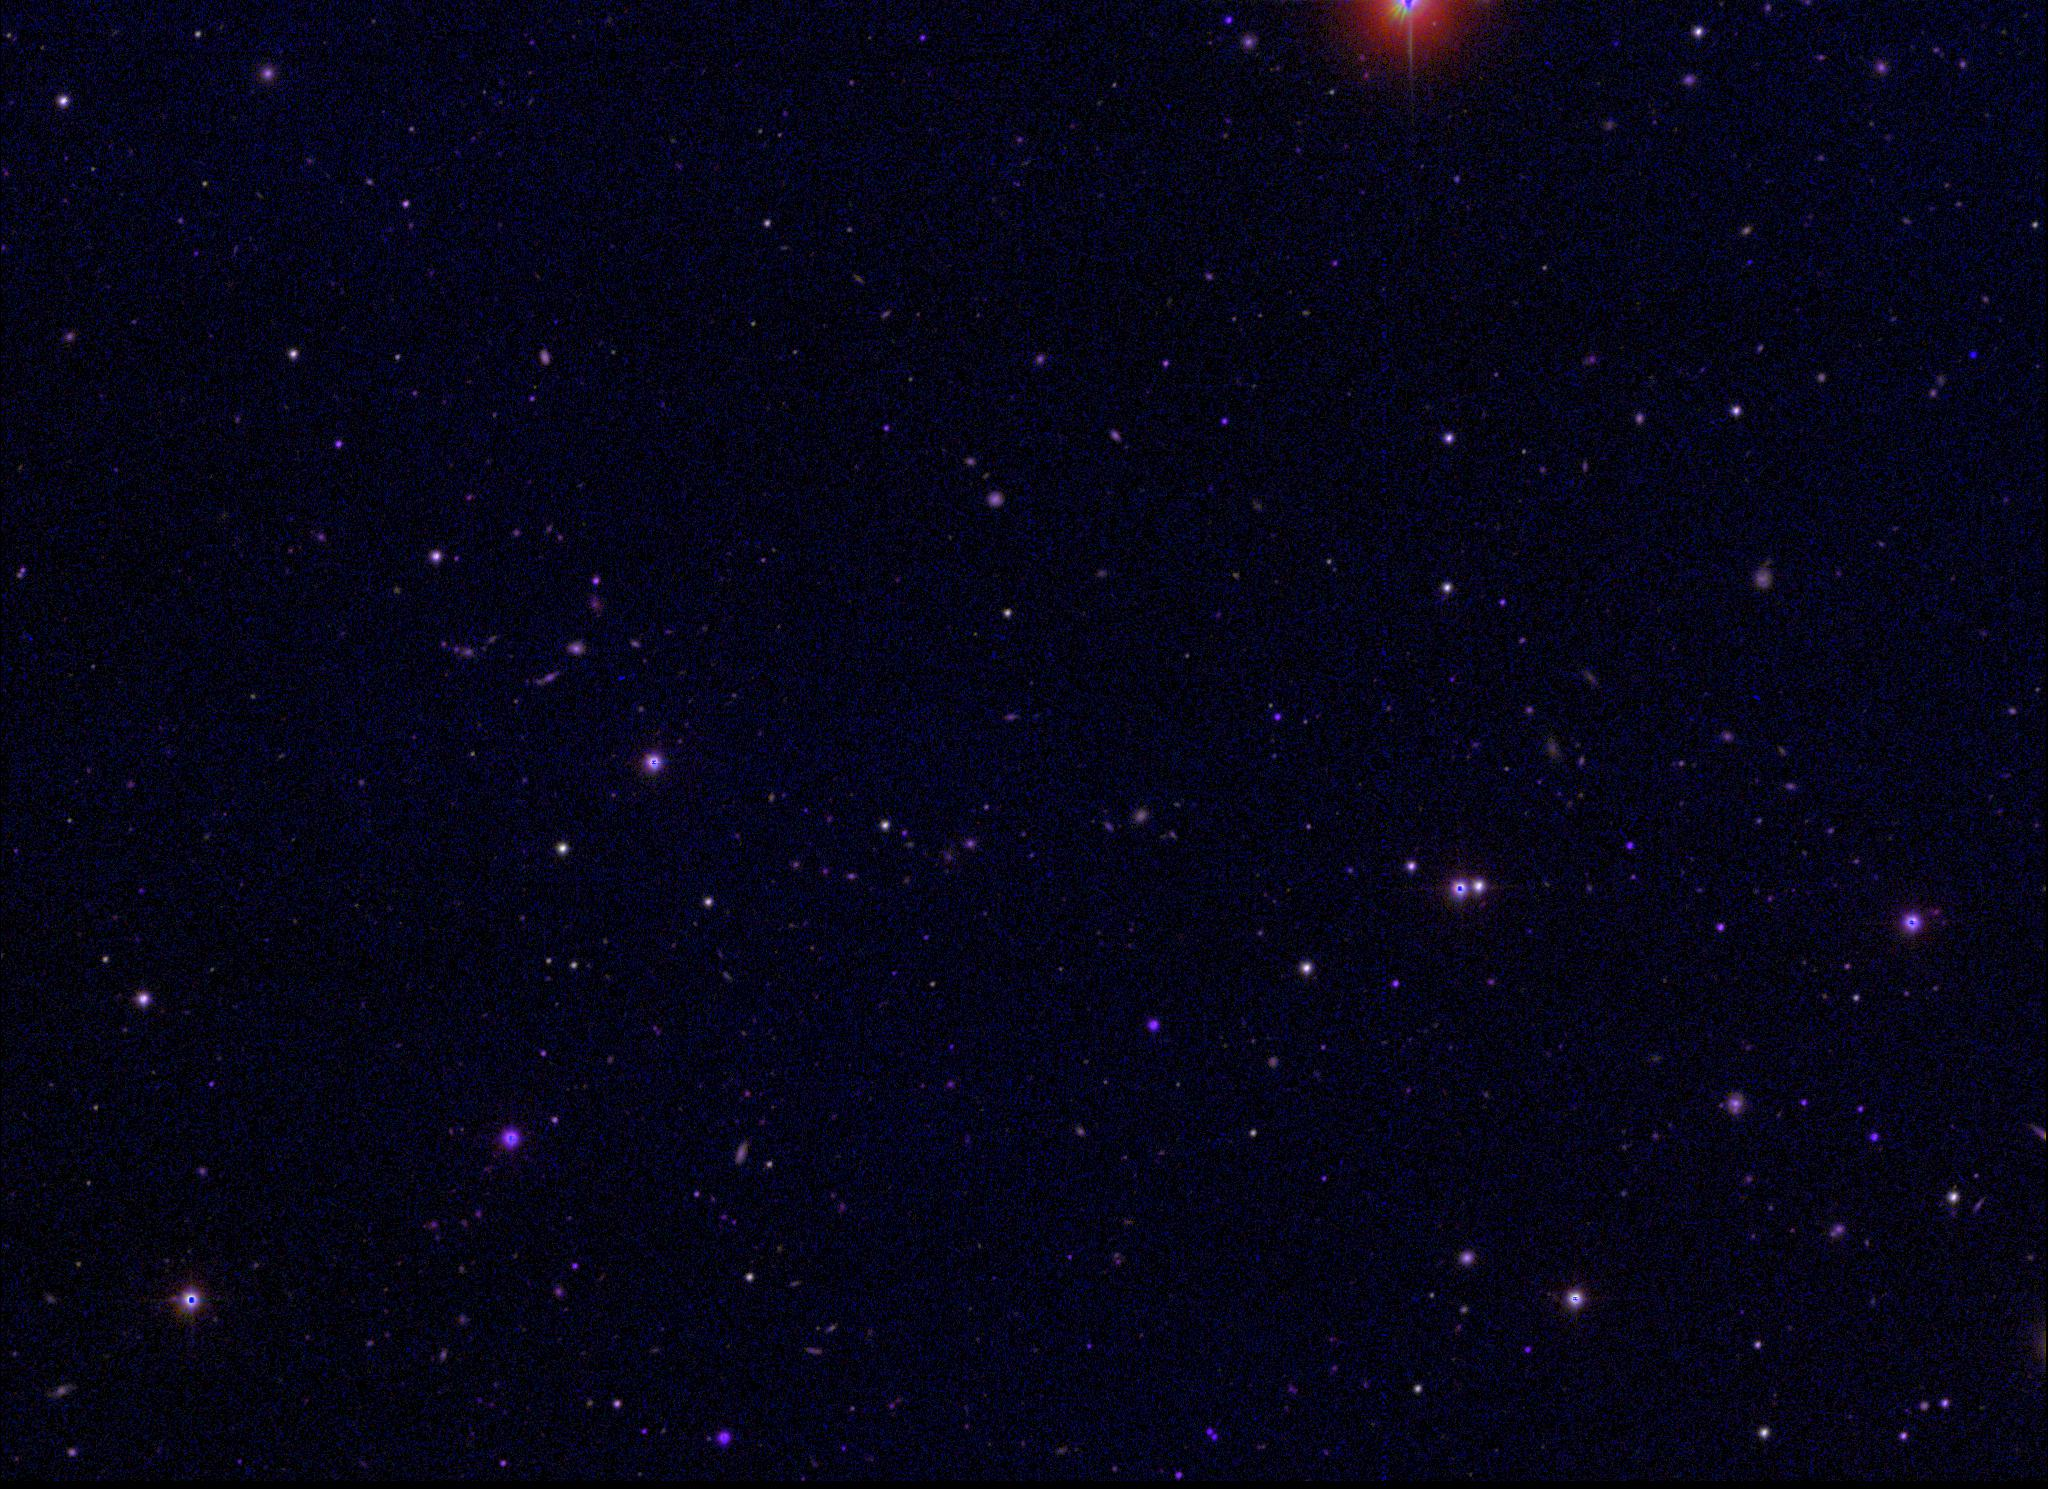L: (1965, 345, 1980, 360)
